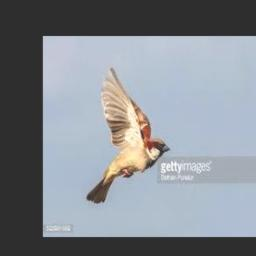Sparrow: (86, 68, 170, 203)
